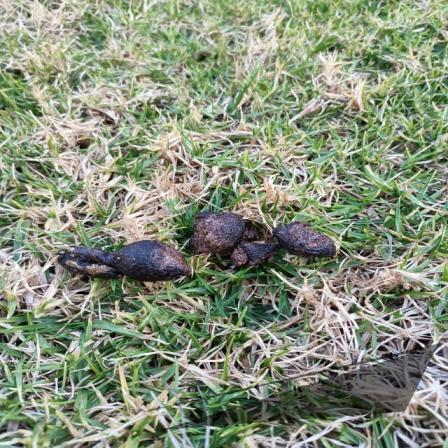dog-poop: (58, 208, 341, 285)
